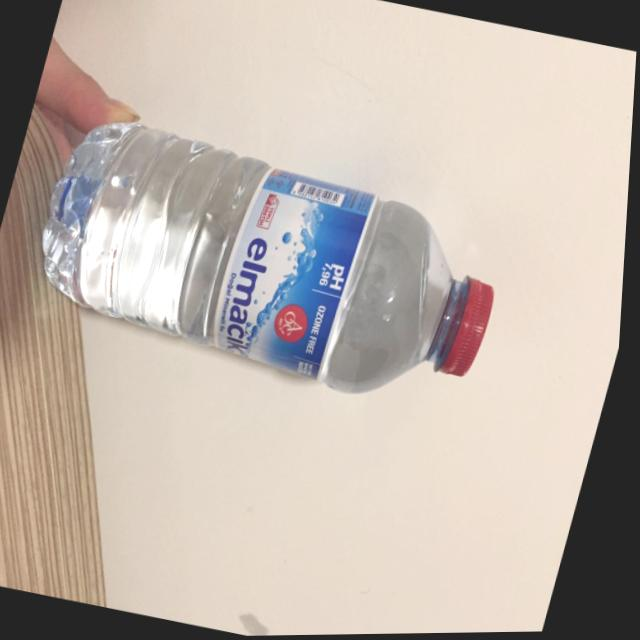anorganik: (12, 135, 537, 411)
